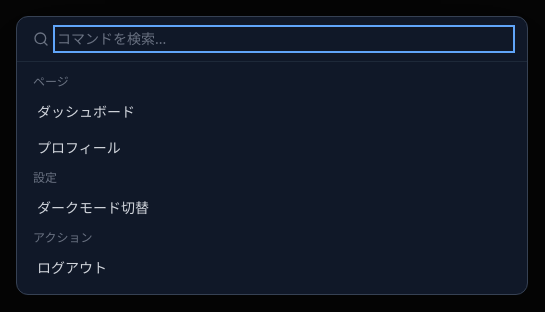
Scenario: CommandPalette › 検索でフィルタリングされる
This screenshot has width=545, height=312.
Type "ダッシュ" into the field with placeholder "コマンドを検索..." at [284, 39], box [57, 29, 511, 49]
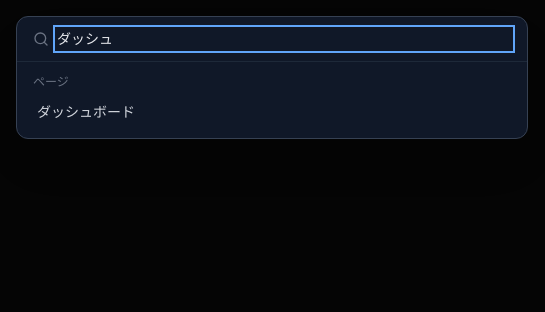
Expected: the text "ダッシュボード" is shown, [37, 102, 135, 122]
Now the button "ログアウト" is gone
